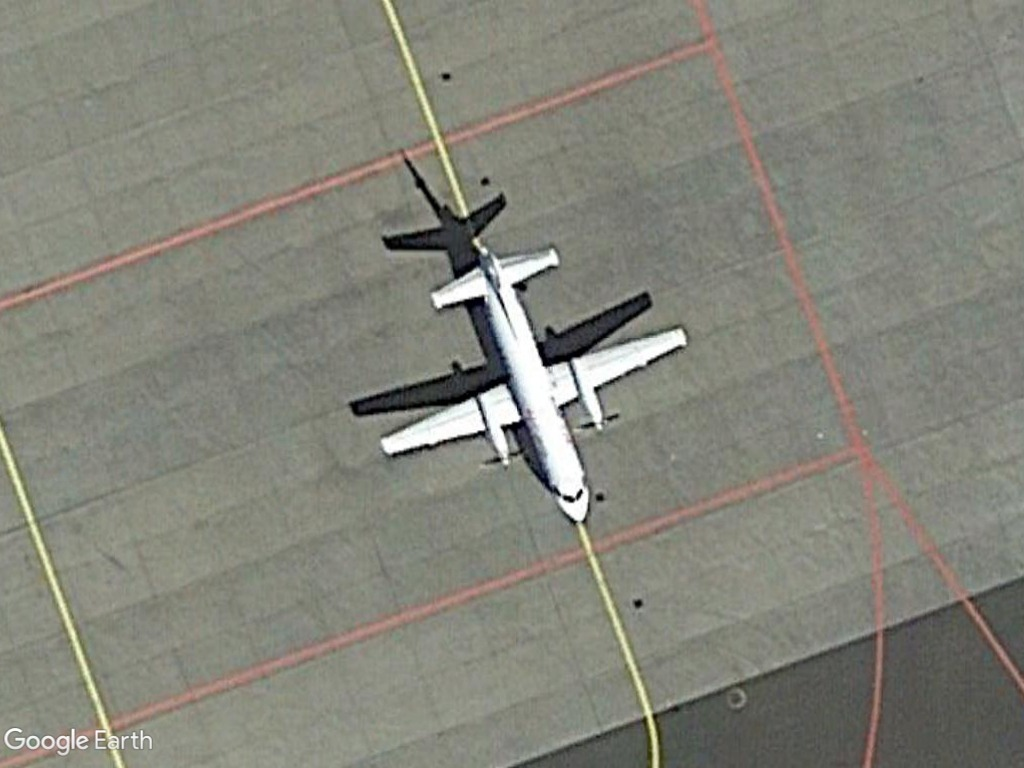propeller: (370, 224, 682, 533)
